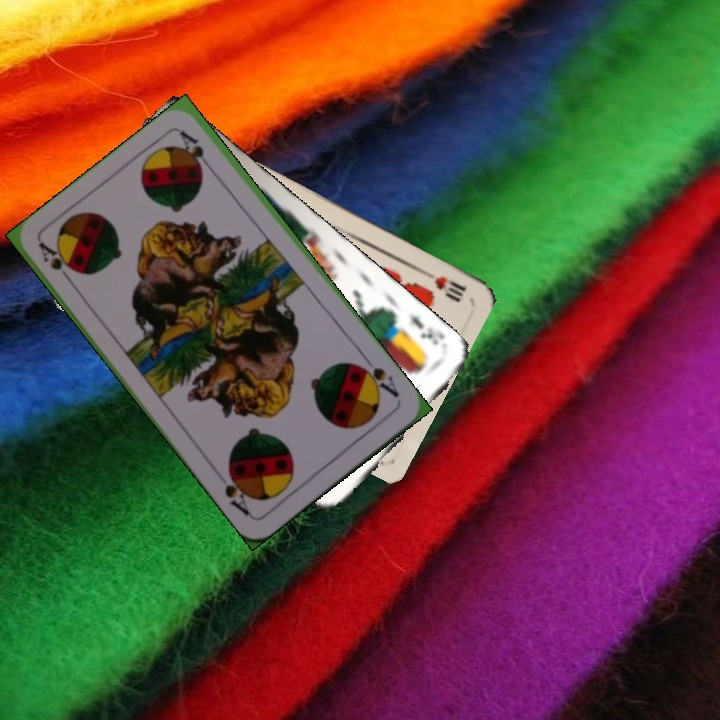EK: (405, 311, 447, 348)
H10: (417, 266, 469, 304)
SA: (353, 353, 402, 400), (34, 238, 77, 289)
